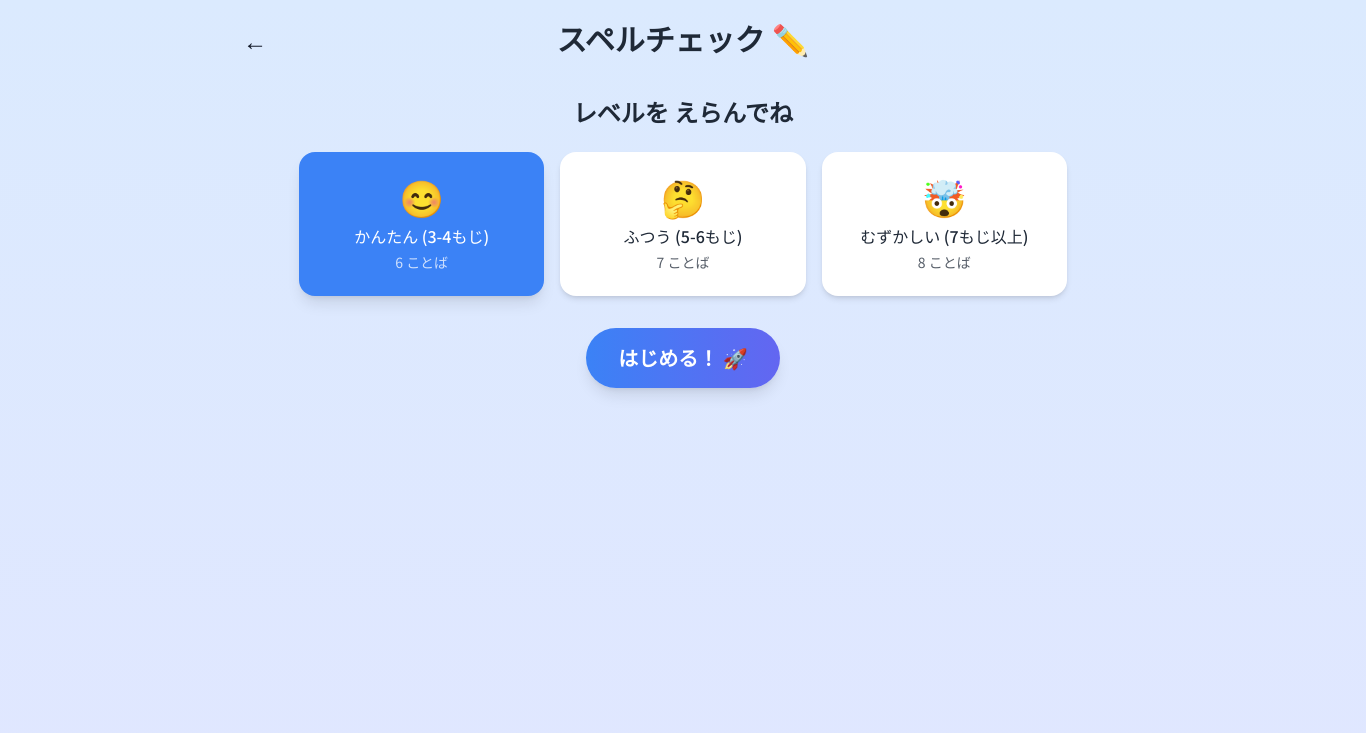
SpellingGamePage › can input text using alphabet buttons
Step 1. Click the button "はじめる！ 🚀" → (683, 358), box [586,328,780,388]
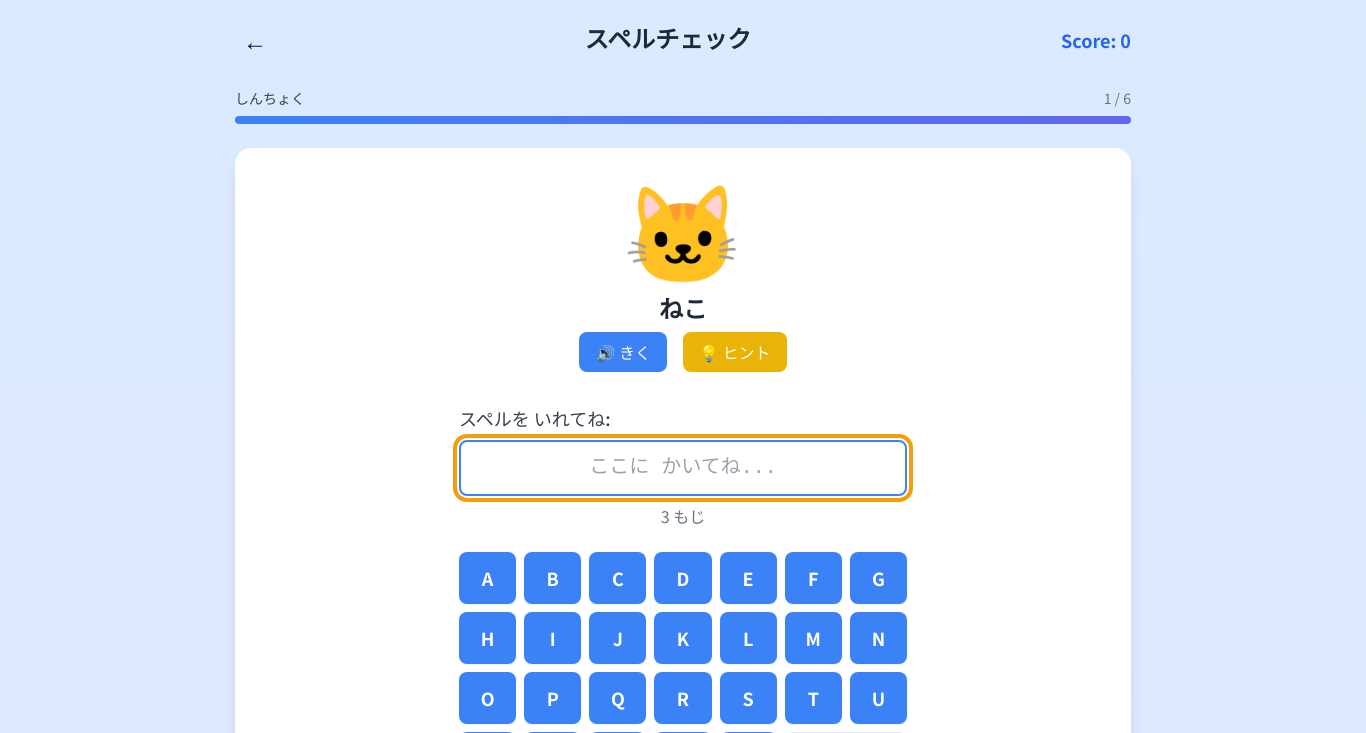
Expected: the field with placeholder "ここに かいてね..." is empty, [459,440,907,496]
Expected: the button "C" is shown
Step 2. Click the button "C" → (618, 578), box [589,552,646,604]
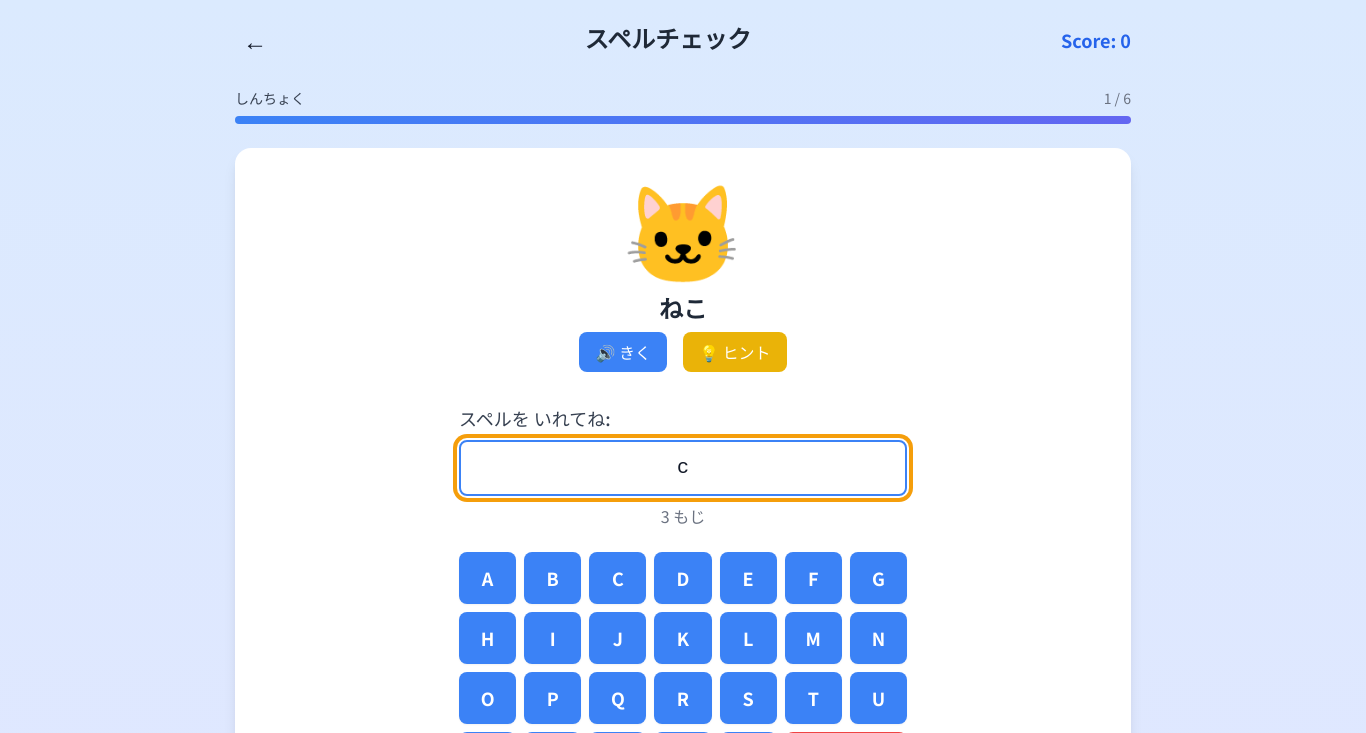
Expected: the field with placeholder "ここに かいてね..." holds "c", [459,440,907,496]
Step 3. Click the button "A" → (488, 578), box [459,552,516,604]
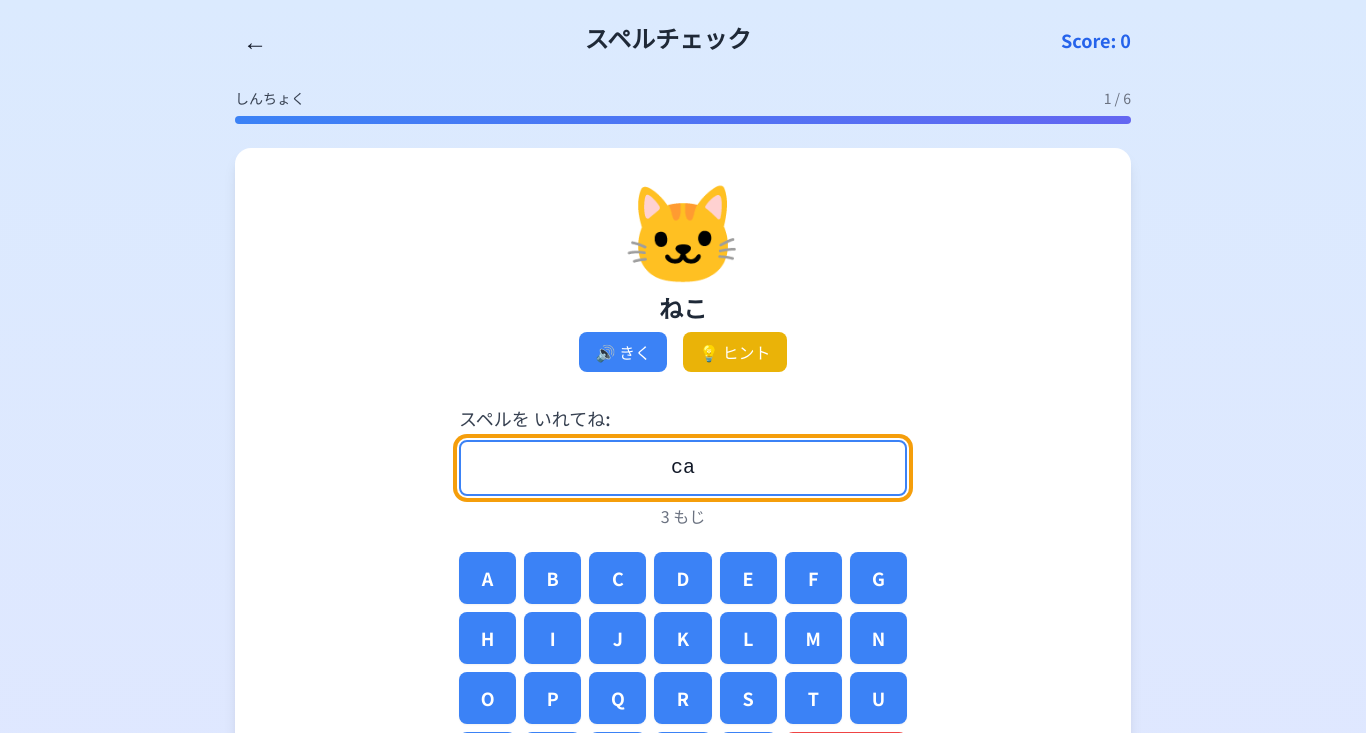
Expected: the field with placeholder "ここに かいてね..." holds "ca", [459,440,907,496]
Step 4. Click the button "T" → (813, 698), box [785,672,842,724]
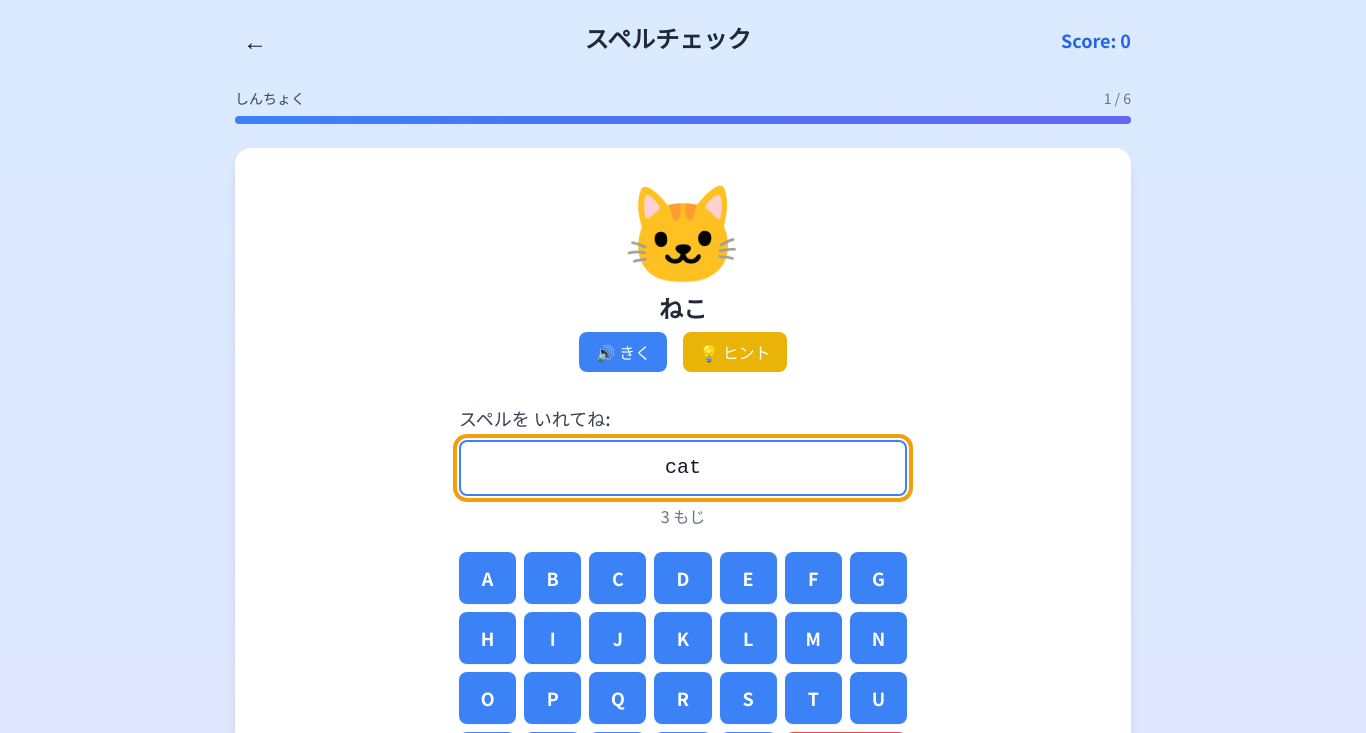
Expected: the field with placeholder "ここに かいてね..." holds "cat", [459,440,907,496]
